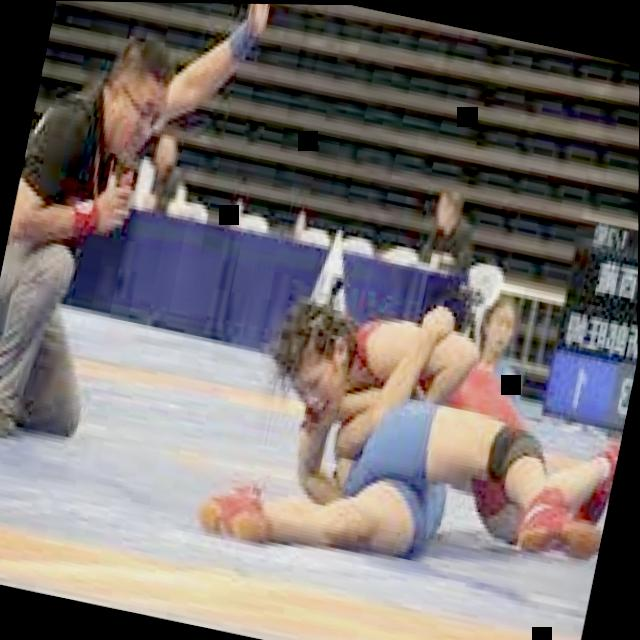Fall-Detected: (211, 268, 638, 607)
